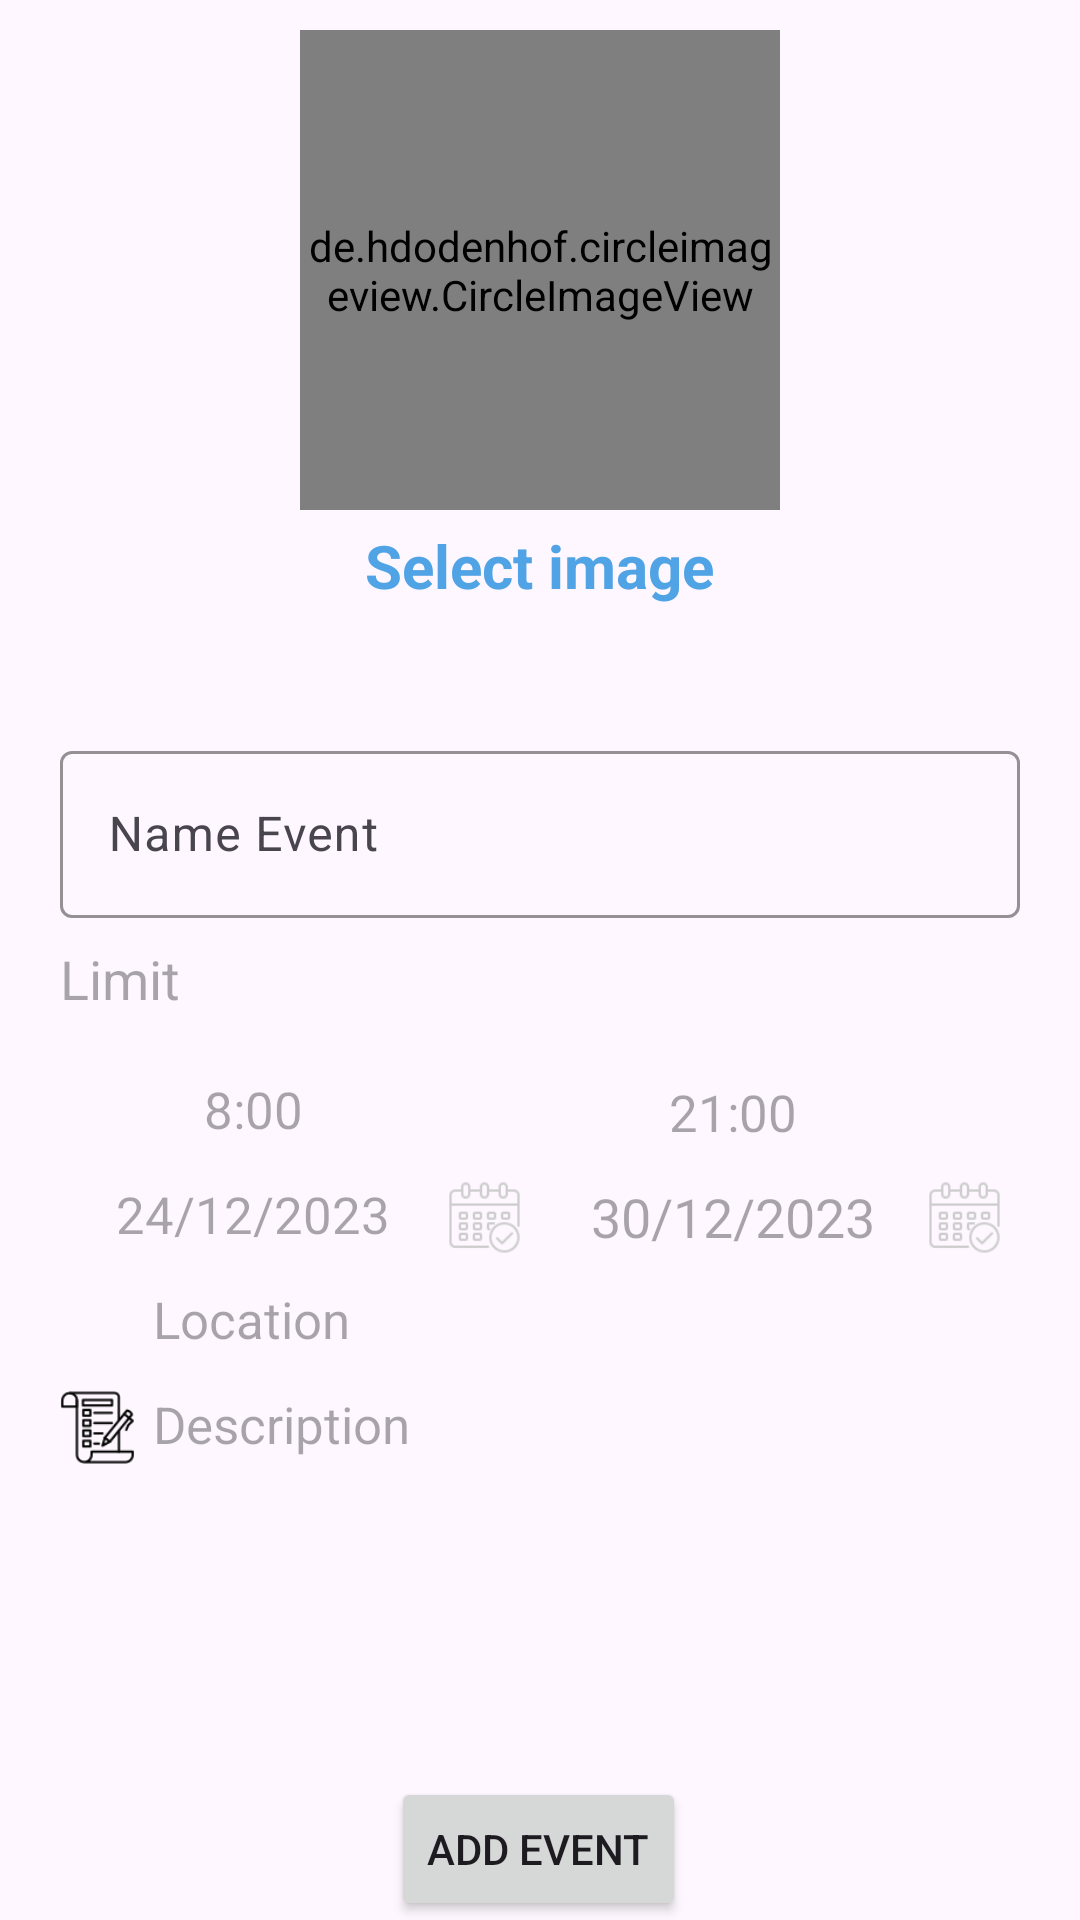

Locate icon controls on the screen. Image size 1080x1920, boxes as (x1, y1, x2, y2).
calendar: (449, 1182, 520, 1253), (929, 1182, 1000, 1253)
